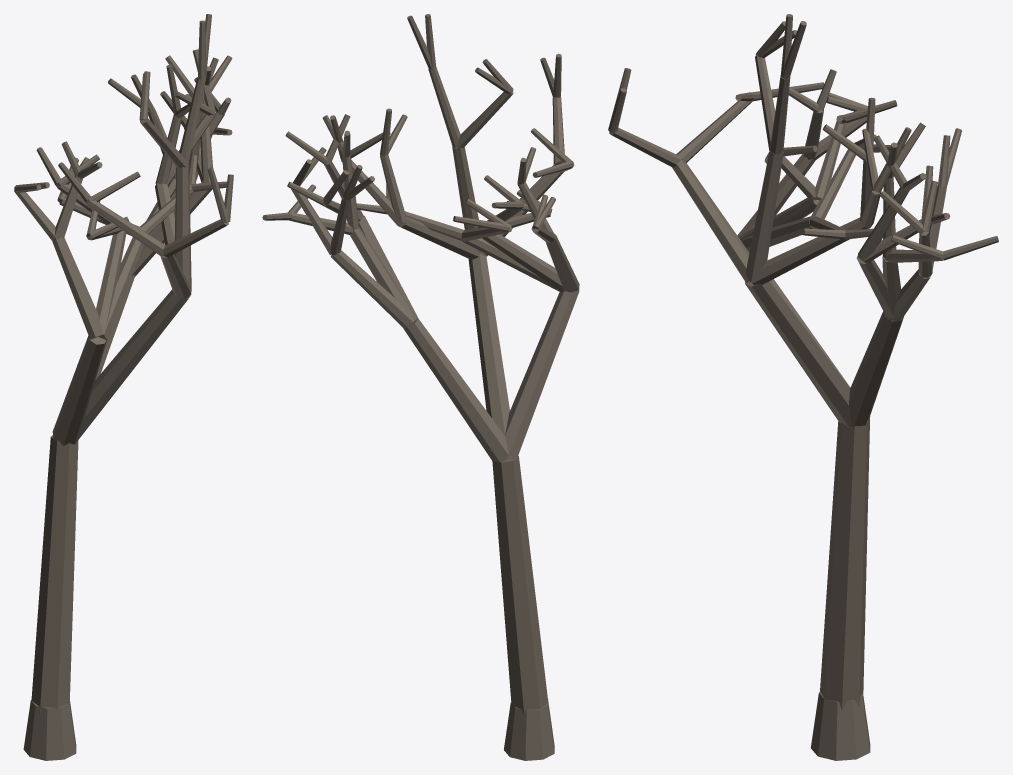
File: tree.glb
The picture shows the model from 3 angles, left to right: view 1: azimuth 30°, elevation 25°; view 2: azimuth 150°, elevation 25°; view 3: azimuth 270°, elevation 25°; orthographic projection. The views are drawn at different scales.
Visible parts, largest first — view 1: Tree; view 2: Tree; view 3: Tree.
Boxes of the visible parts, <box> form: Tree: <box>14,14,233,760</box>; Tree: <box>262,14,579,760</box>; Tree: <box>608,14,998,760</box>.
Size of the model in its own units: 3.06 by 8.67 by 3.82.
